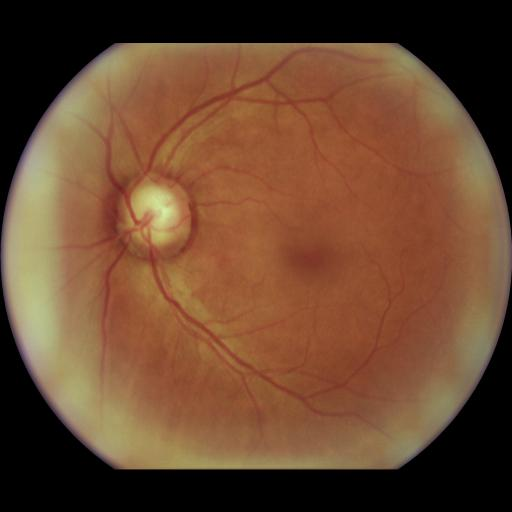Optic Cup: (123, 186, 178, 245)
Optic Disc: (117, 174, 193, 257)
